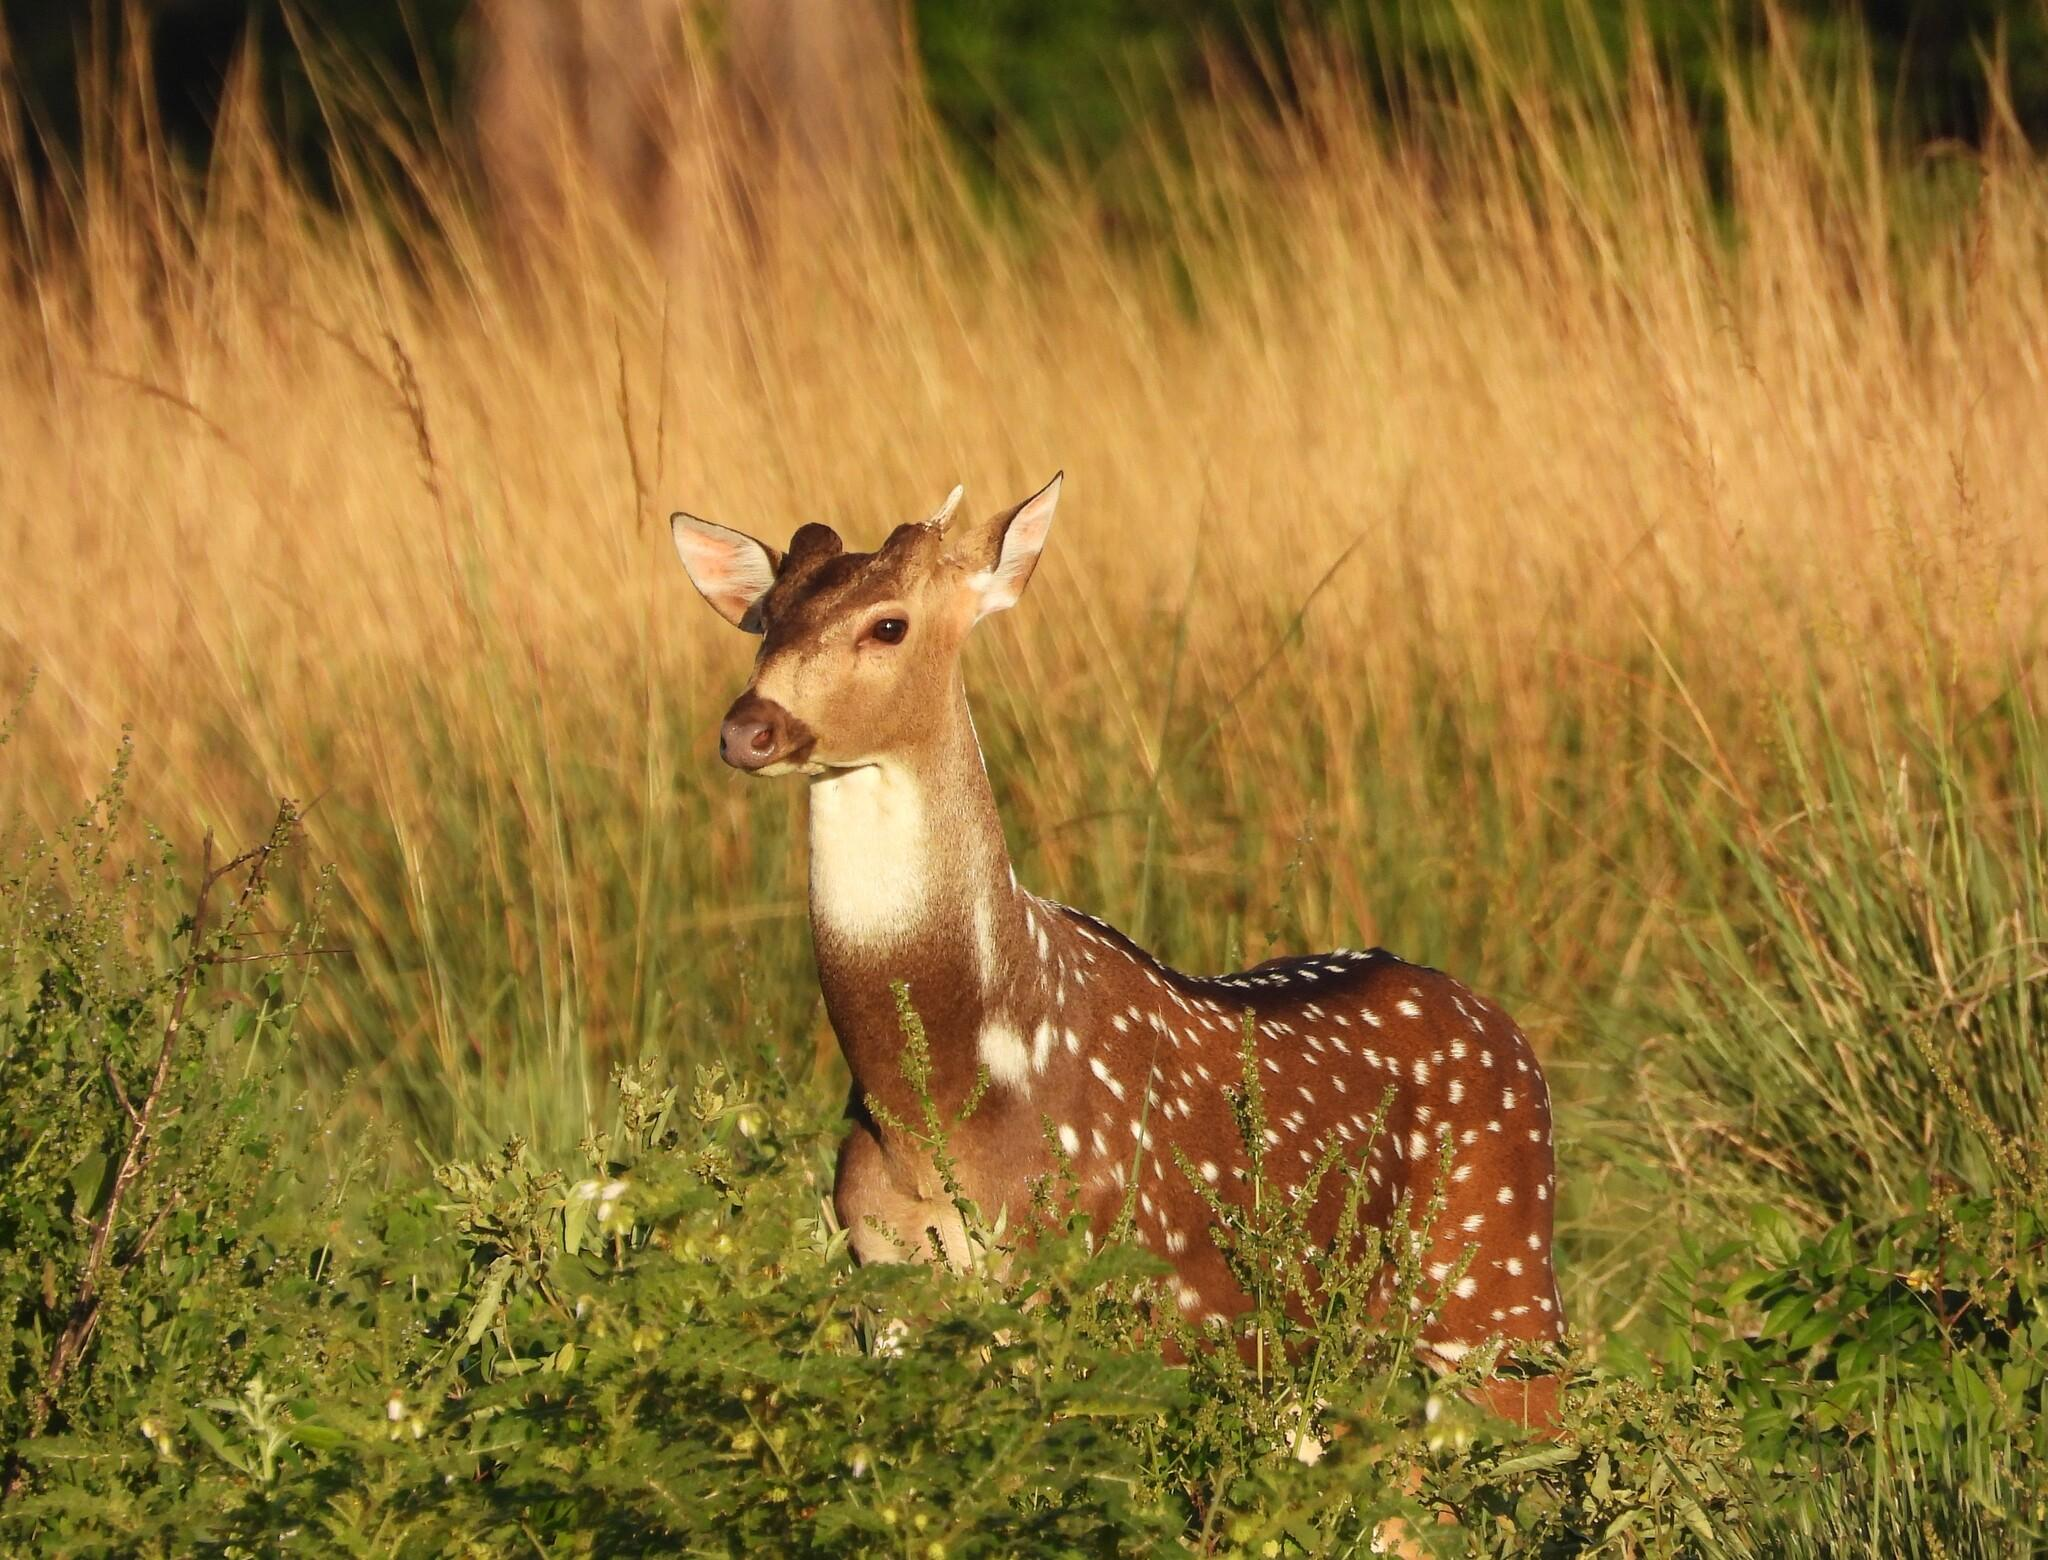Deer: (672, 475, 1561, 1363)
